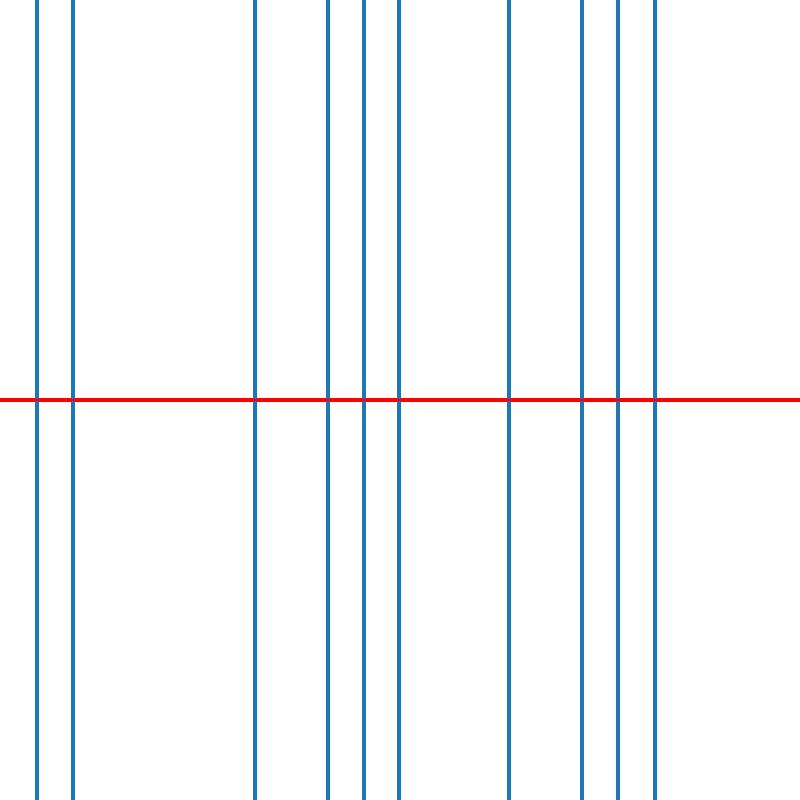root: (32, 396, 40, 404), (650, 396, 658, 404), (250, 396, 258, 404), (396, 396, 403, 404), (578, 396, 585, 404), (323, 396, 330, 404), (614, 396, 621, 404), (360, 396, 367, 404), (505, 396, 512, 404), (69, 396, 76, 404)
